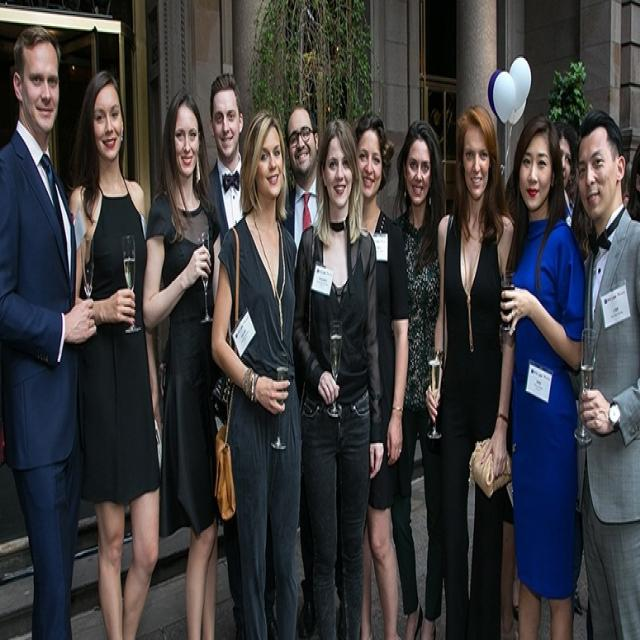body: (0, 21, 97, 638), (68, 67, 165, 639), (209, 109, 308, 638), (140, 80, 233, 638), (424, 101, 520, 638), (289, 116, 387, 639), (195, 68, 279, 640), (497, 111, 588, 638), (574, 107, 640, 640), (385, 117, 450, 640), (352, 108, 410, 640), (553, 116, 640, 270), (276, 99, 328, 257), (510, 520, 587, 626)
